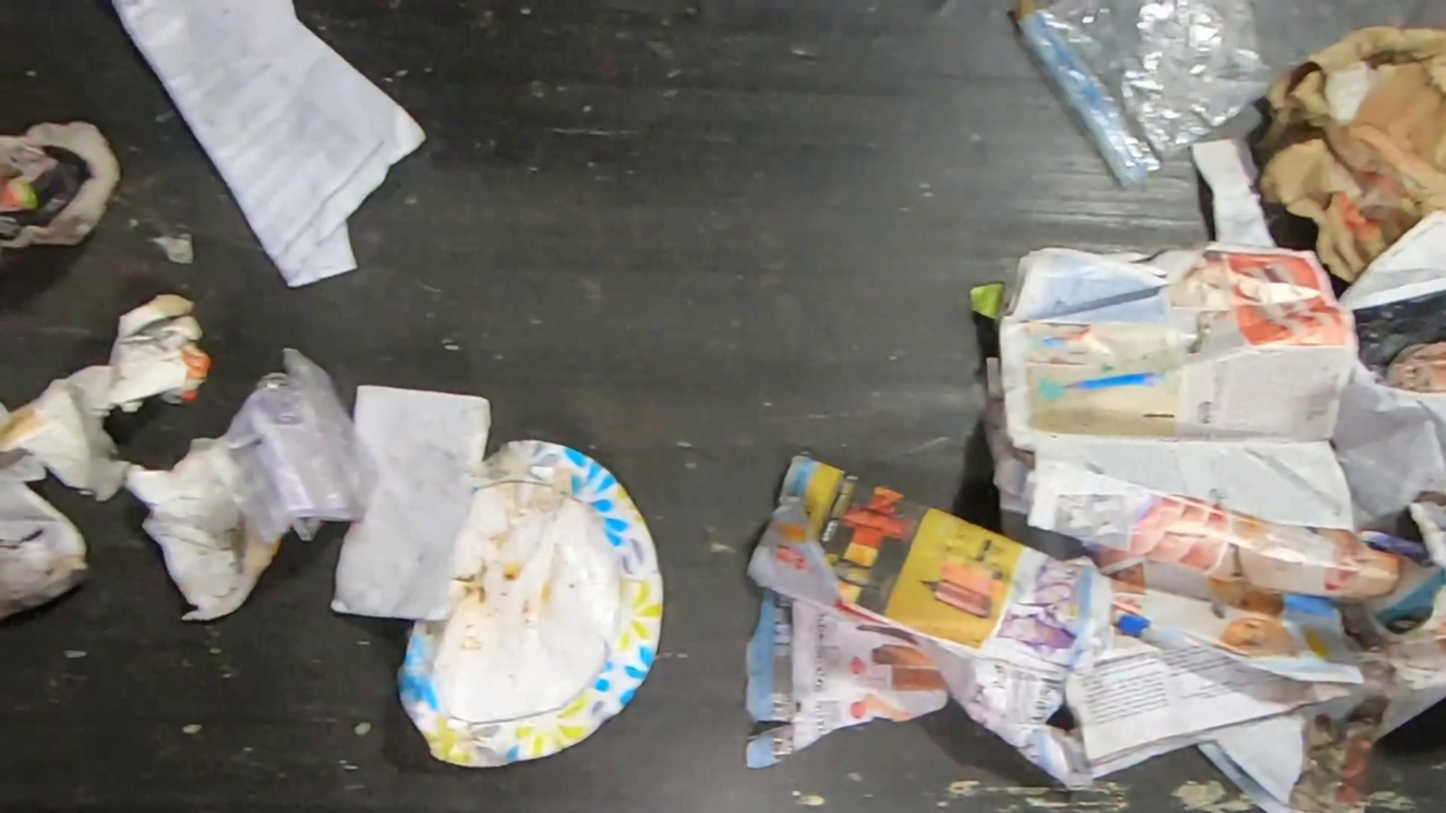plastic: (1014, 0, 1276, 190), (223, 348, 387, 553)
